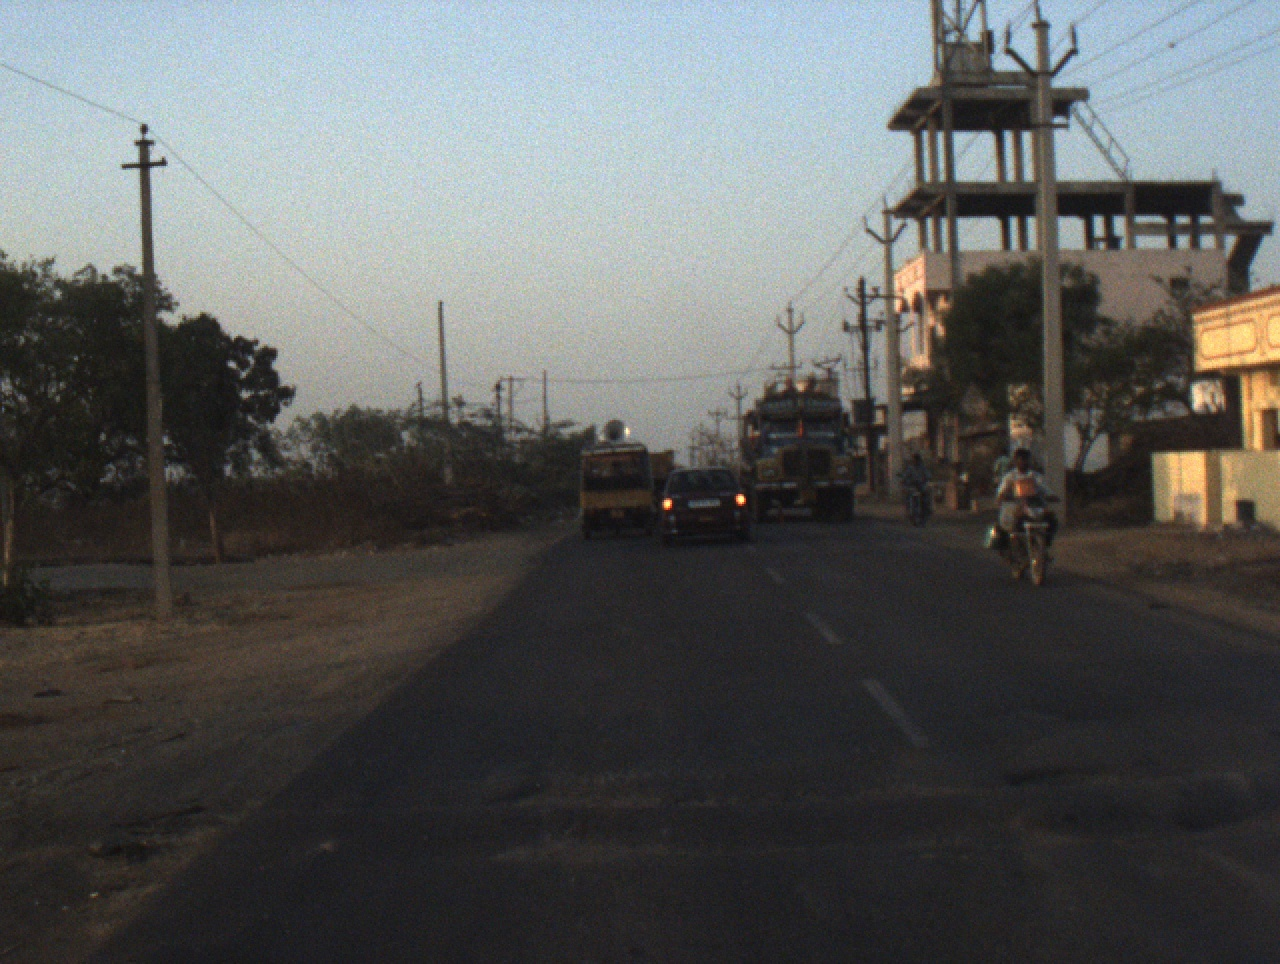autorickshaw: (573, 420, 664, 541)
car: (653, 465, 752, 545)
motorcycle: (987, 490, 1065, 586), (893, 468, 935, 529)
person: (990, 444, 1013, 486)
rider: (988, 446, 1062, 572), (894, 446, 936, 513)
truck: (733, 374, 864, 530)
vehicle fallback: (647, 446, 680, 494)
